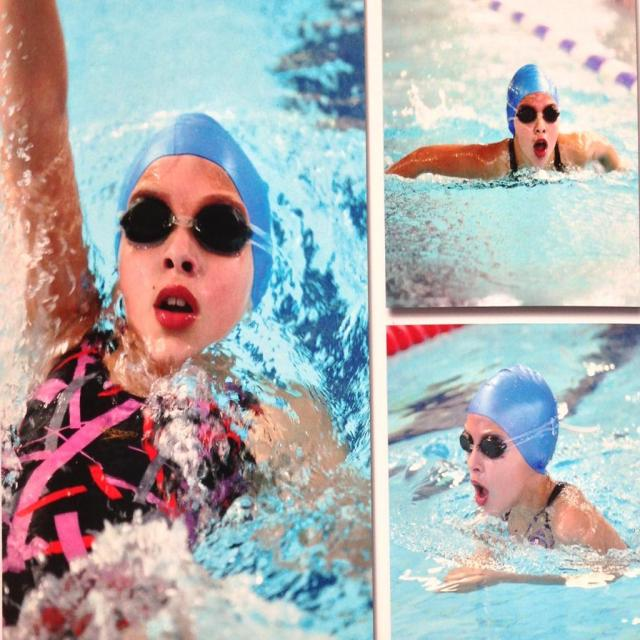nomask: (124, 179, 250, 363), (456, 407, 519, 513), (518, 86, 558, 165)
